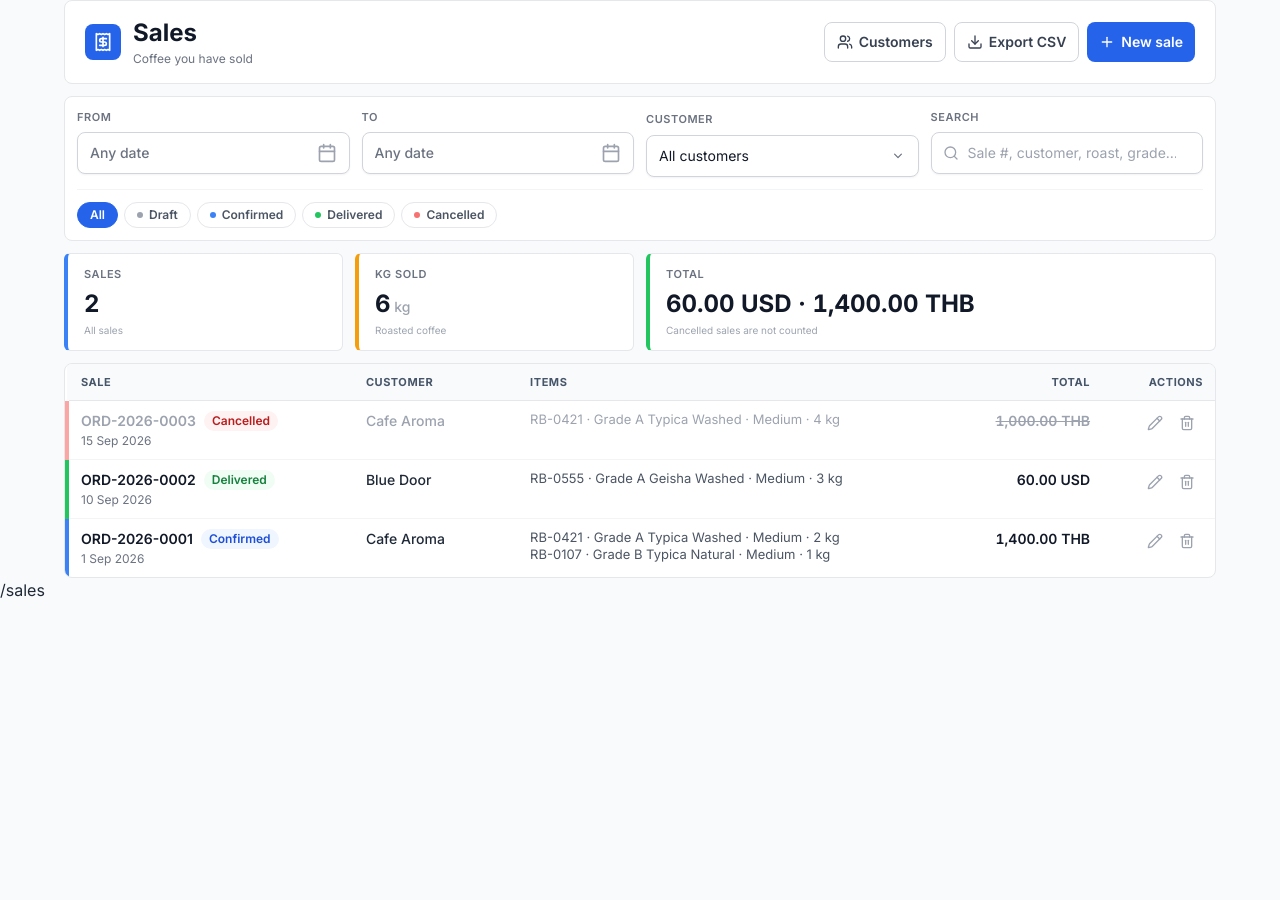
SalesLog › opens the edit popup from a row without opening details
The width and height of the screenshot is (1280, 900).
Click the button named "Edit sale ORD-2026-0001": (1155,540) x1=1139 y1=524 x2=1171 y2=556
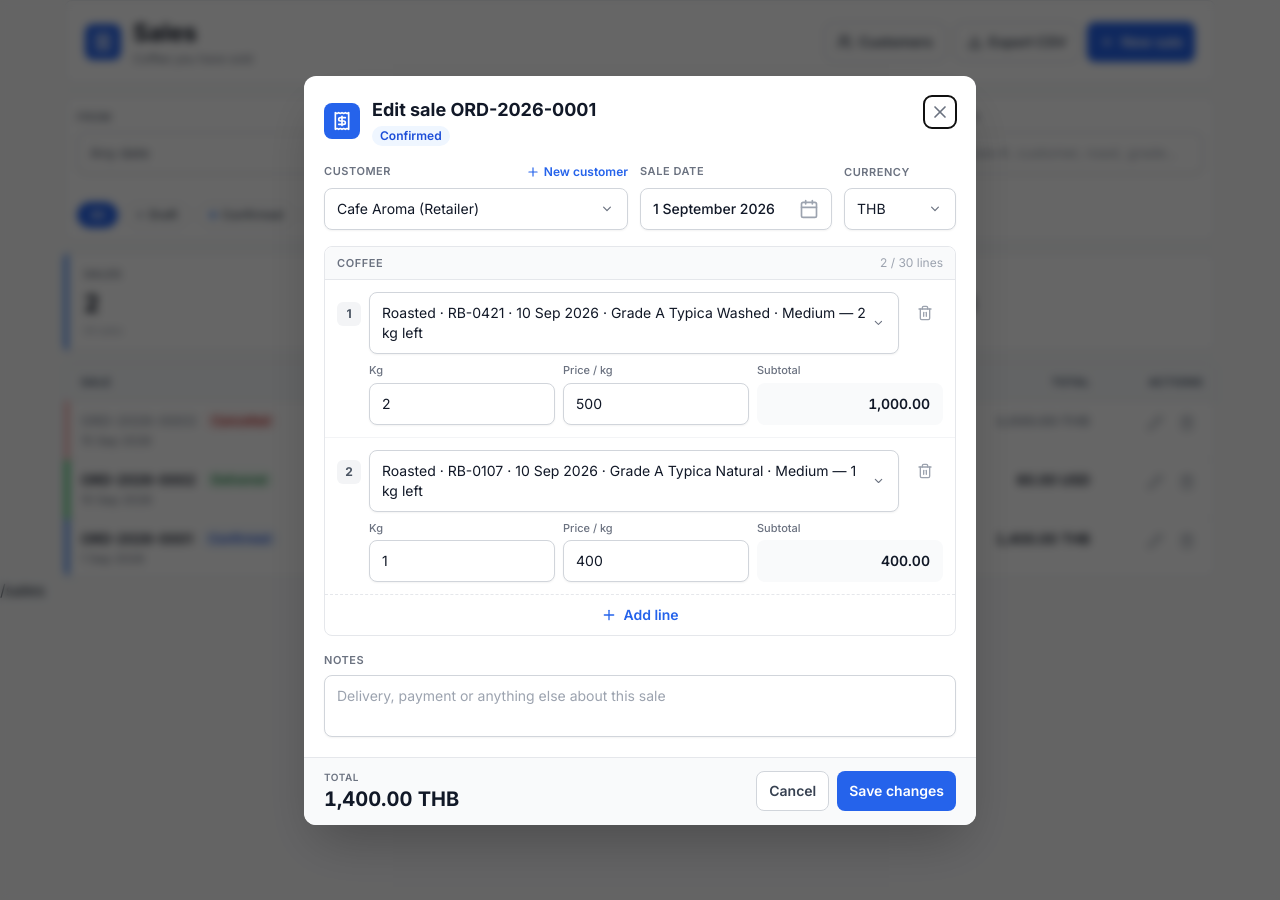
Result: the dialog "Edit sale ORD-2026-0001" is shown
Result: the number of dialogs is 1
